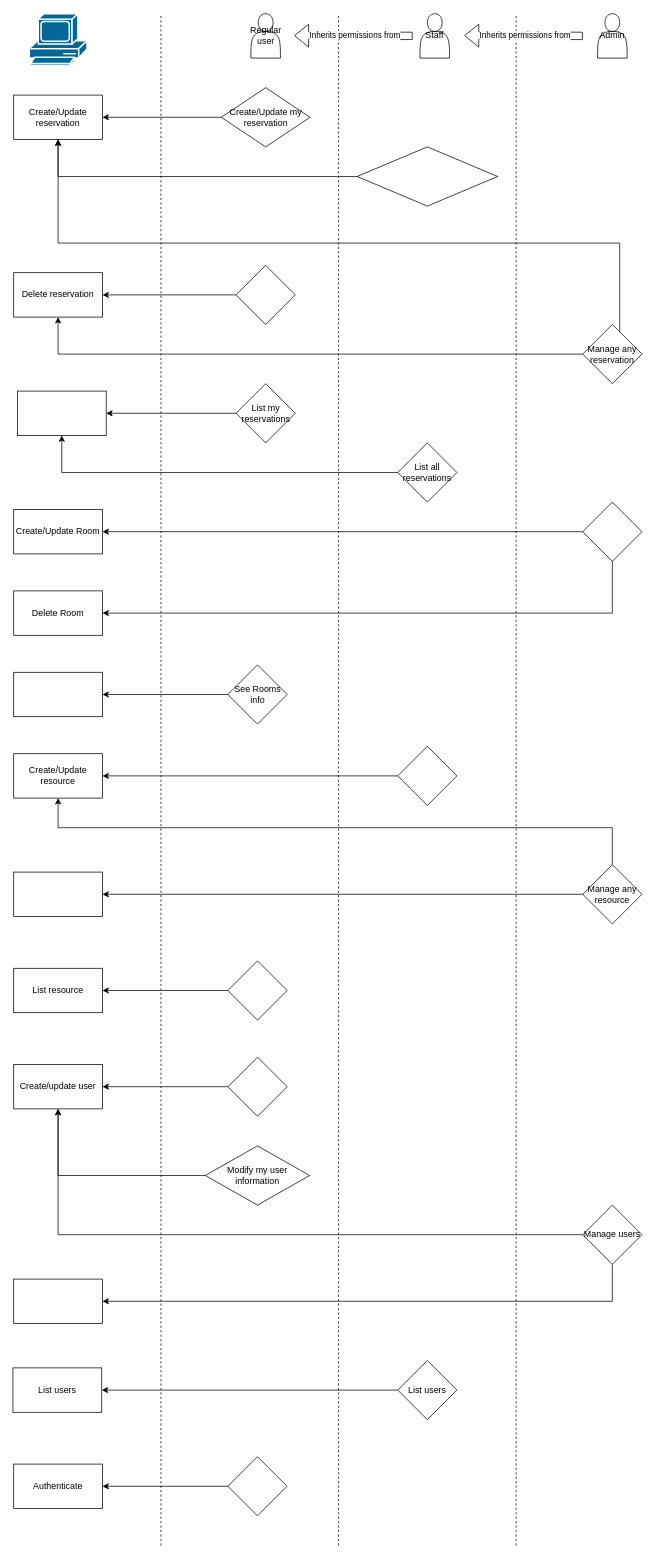
This 655x1559 diagram has some shape labels left out. The shapes that lost their labels are listed below. From the top down, each one's centre as x and y in pixels, then its label:
pixel 427 176: Approve/Deny reservation
pixel 265 294: Delete my reservation
pixel 61 412: List reservation
pixel 612 531: Manage Room
pixel 57 694: List Room
pixel 427 775: Create/Update Resources
pixel 57 893: Delete resource
pixel 257 990: See resource
pixel 257 1086: Register
pixel 57 1300: Delete user
pixel 257 1486: Login/logout
